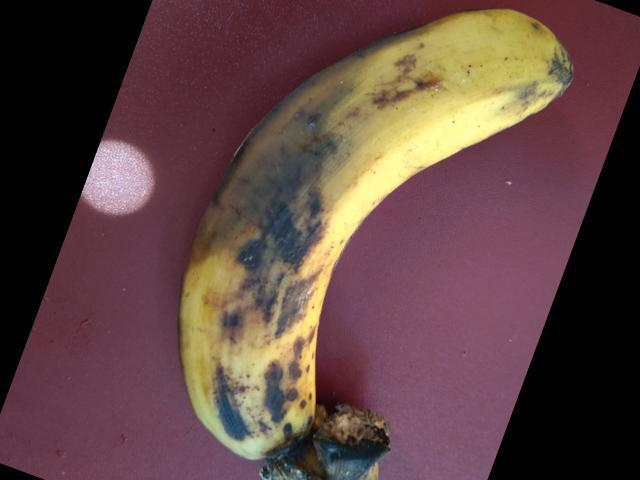overripe: (152, 0, 592, 466)
